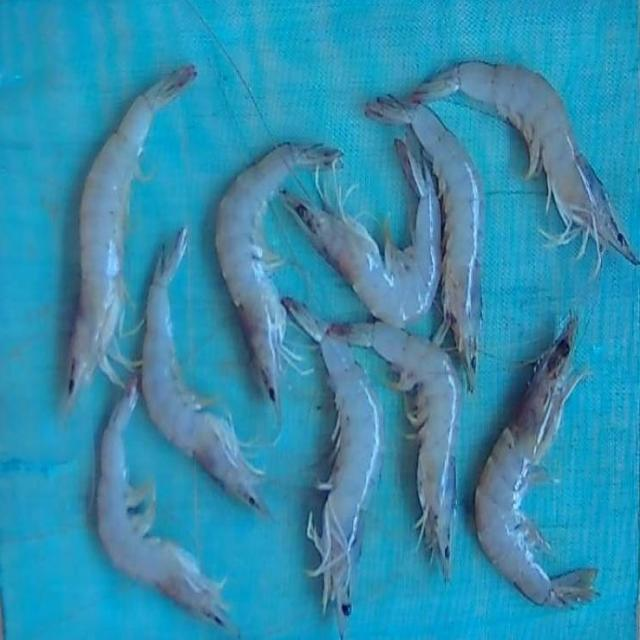shrimp: (412, 60, 640, 268), (68, 65, 196, 399), (476, 317, 599, 607), (141, 230, 266, 513), (366, 95, 483, 391), (216, 144, 343, 408), (97, 377, 230, 629), (331, 322, 461, 579), (284, 298, 382, 638), (282, 129, 442, 327)
